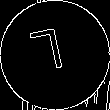L_S: (35, 27, 75, 83)
